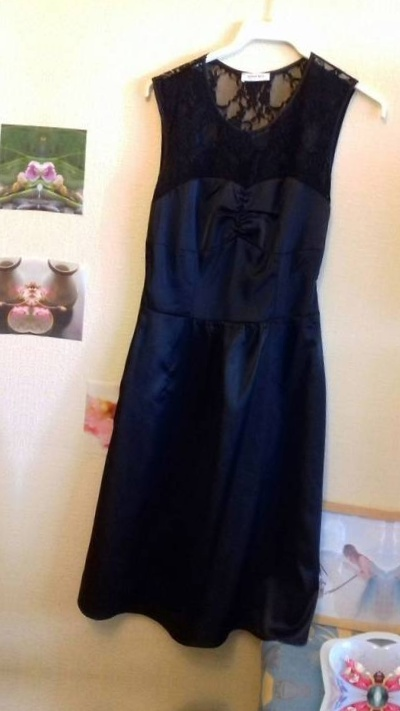Dress: (42, 13, 384, 663), (0, 0, 17, 637), (0, 704, 335, 711)
